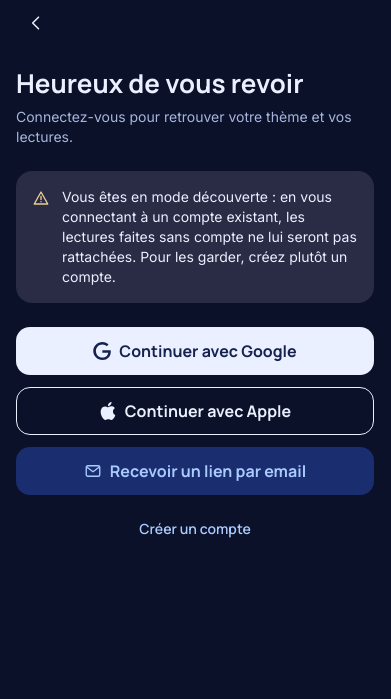
AuthFlow › warns an anonymous user that signing in does not keep the discovery data
Expected: the text "ne lui seront pas rattachées" is shown, [62,188,357,285]
Click the button "Créer un compte" at (195, 529), box [139,519,251,539]
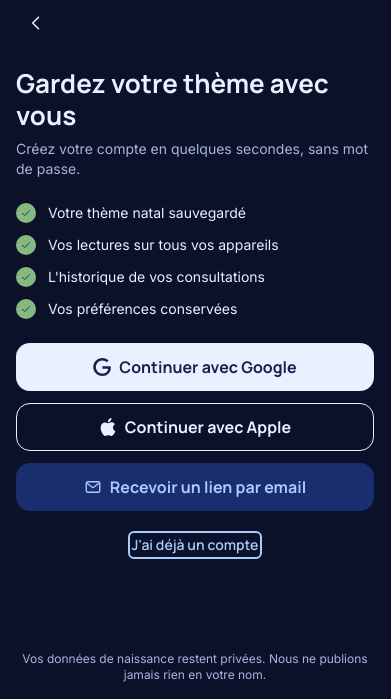
Now the text "ne lui seront pas rattachées" is gone
